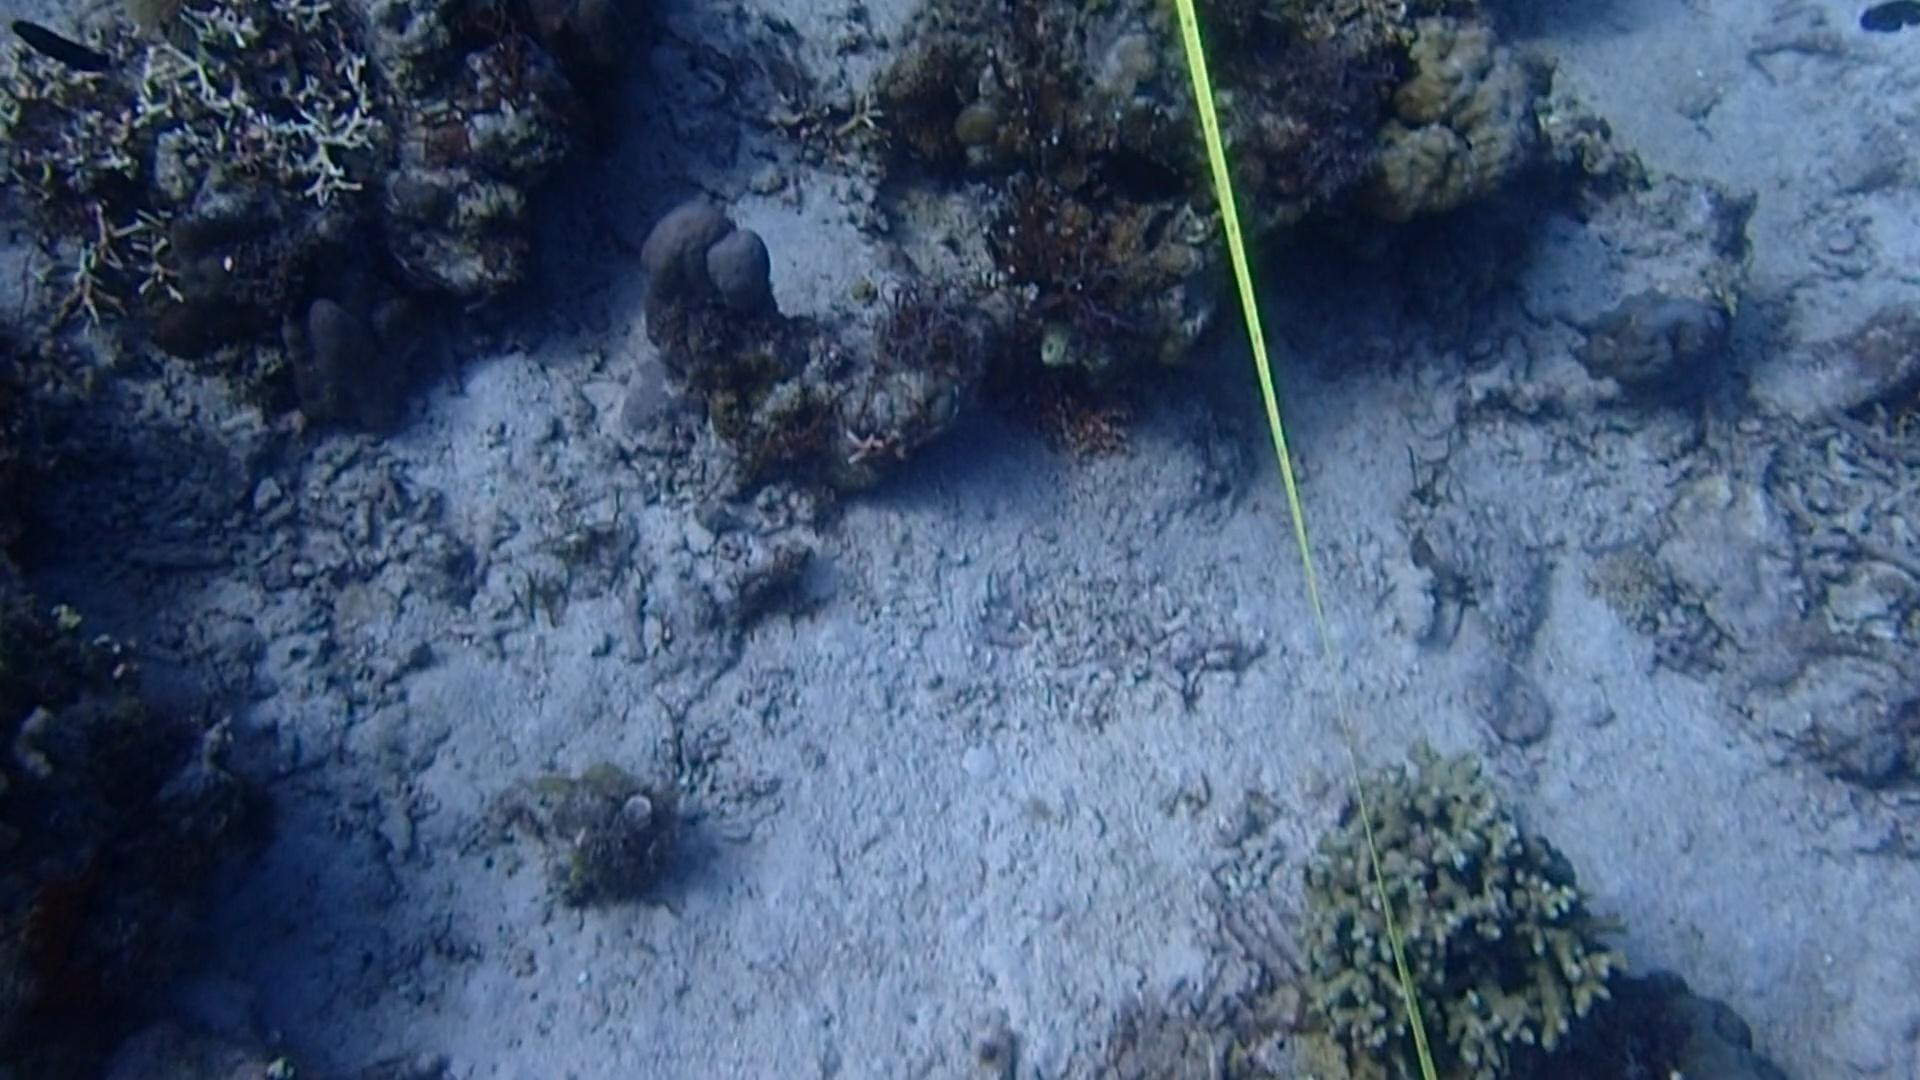Dark Fish: (1073, 111, 1197, 225), (0, 9, 133, 83), (1845, 0, 1920, 42)
